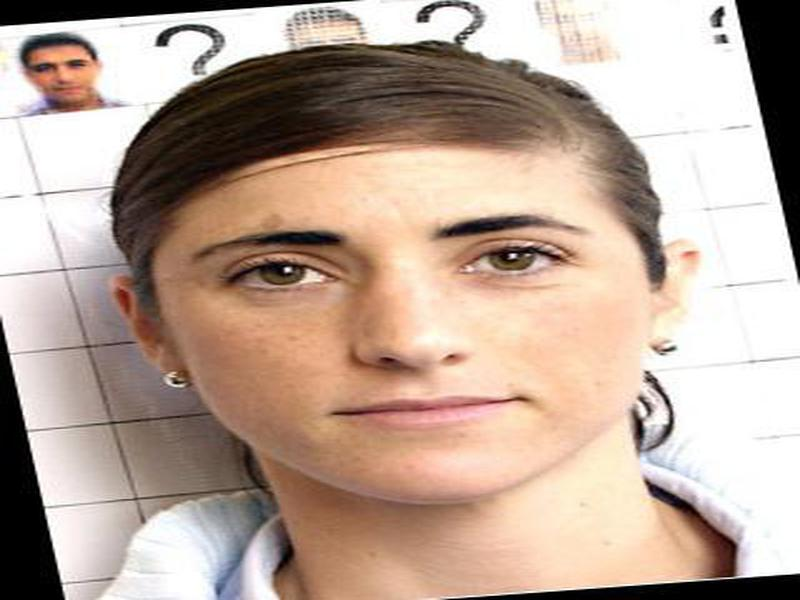without_mask: (129, 138, 653, 510)
